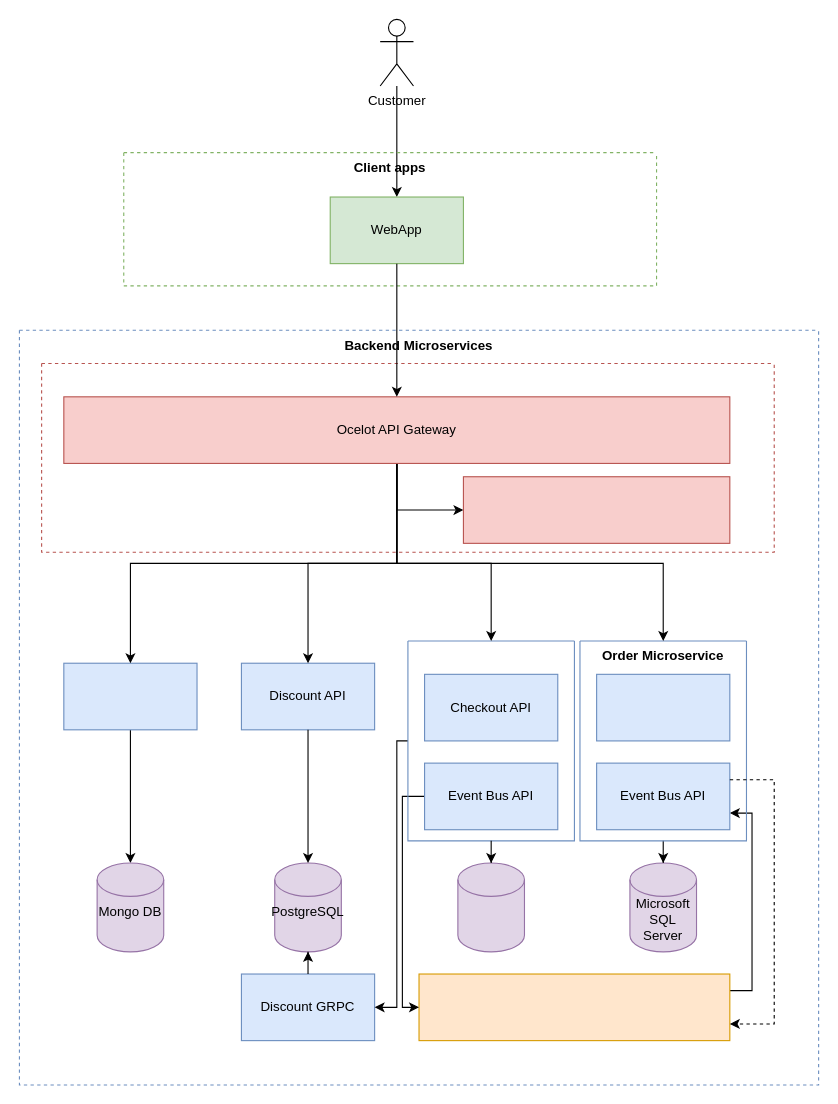
Some shapes in this 838 by 1104 pixel diagram are drawn without their labels. The shapes that lost their labels are listed below. From the top down, each one's box as (x1, y1, x2, y2) in pixels, then its label:
(41, 362, 774, 552): API Gateways
(462, 476, 730, 543): Shopping Aggregator
(63, 662, 197, 730): Product API
(596, 673, 730, 741): Order API
(407, 640, 574, 841): Checkout Microservice
(457, 862, 524, 952): Redis
(418, 973, 730, 1041): RabbitMQ
